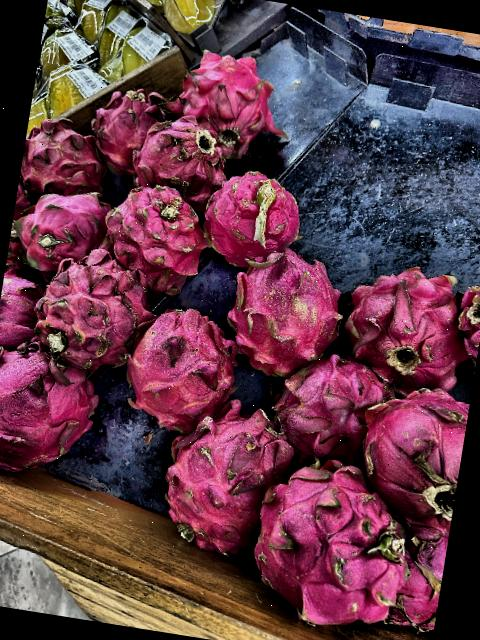buah-naga-matang: (245, 450, 419, 640), (159, 393, 287, 576), (333, 252, 474, 392), (350, 373, 471, 522), (26, 242, 156, 376), (88, 170, 212, 304), (117, 298, 235, 436), (218, 247, 348, 372), (268, 344, 386, 466), (164, 45, 288, 157), (0, 342, 102, 478), (196, 166, 318, 271), (122, 104, 228, 216), (11, 182, 114, 270), (70, 82, 162, 180), (17, 115, 112, 206)
